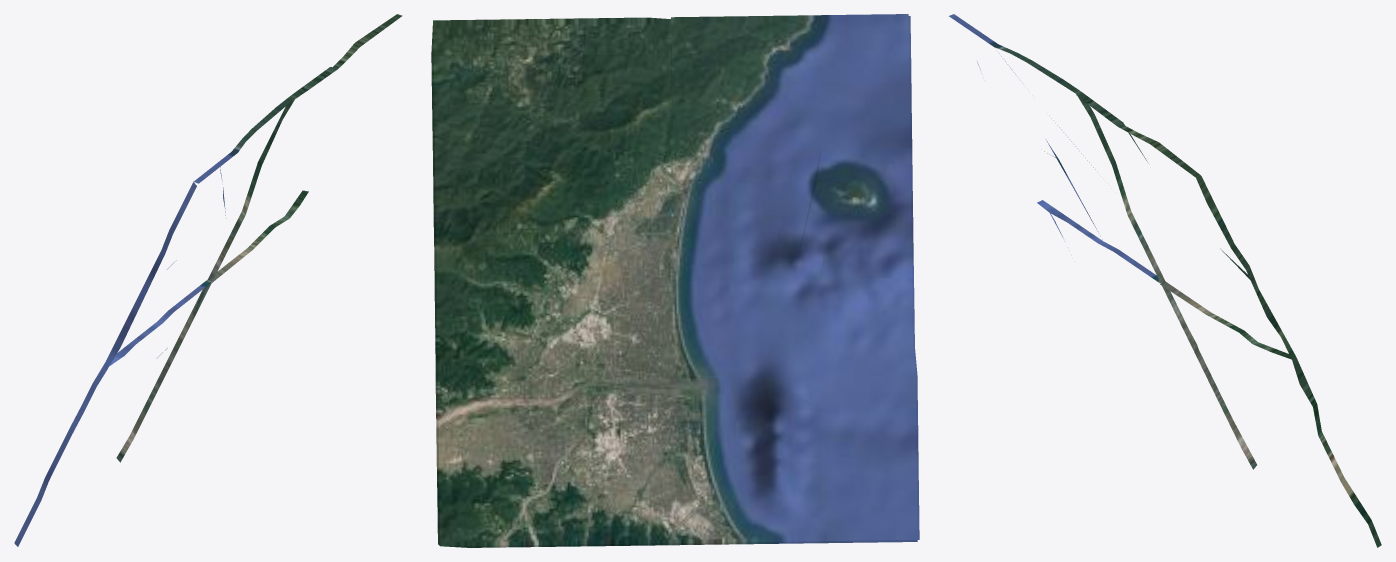
3 views of the same model, side by side, from view 1: azimuth 30°, elevation 25°; view 2: azimuth 150°, elevation 25°; view 3: azimuth 270°, elevation 25° (orthographic). The views are drawn at different scales.
Size of the model in its own units: 38998 by 36320 by 33542.
1 material, 1 textured.
